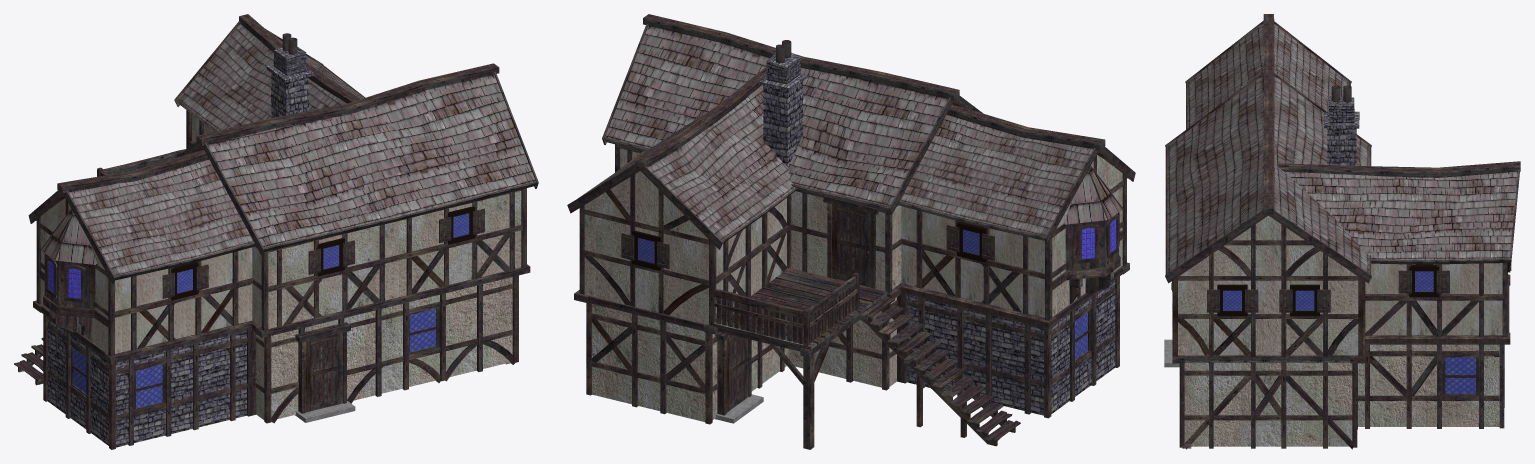
Rendered from House2_1Upload.obj.
3 views of the same model, side by side, from view 1: azimuth 30°, elevation 25°; view 2: azimuth 150°, elevation 25°; view 3: azimuth 270°, elevation 25° (orthographic). The views are drawn at different scales.
Parts seen in each view (by area): view 1: Roof_Cube.382, WoodenBeams_Cube.380, HouseLevel1_Cube.014, HouseLevel2_Cube.015, RoofFrame_Cube.471, WindowFrames_Cube.018, Door1_Cube.033, Chimney_Cube.418, Door1Frame_Cube.037, Windows1Level1_Cube.161, Windows2Level1_Cube.009, WoodenStair_Cube.461 (+2 smaller); view 2: Roof_Cube.382, WoodenBeams_Cube.380, HouseLevel2_Cube.015, HouseLevel1_Cube.014, RoofFrame_Cube.471, BackBalcony_Cube.134, WoodenStair_Cube.461, Chimney_Cube.418, WindowFrames_Cube.018, Door3_Cube.422, Door2_Cube.044, Door3Frame_Cube.421 (+2 smaller); view 3: Roof_Cube.382, WoodenBeams_Cube.380, HouseLevel2_Cube.015, HouseLevel1_Cube.014, RoofFrame_Cube.471, WindowFrames_Cube.018, Chimney_Cube.418, Windows4Level1_Cube.019, Windows10Level2_Cube.465, Windows9Level2_Cube.049, Windows11Level2_Cube.040.
Boxes of the visible parts, x1,y1,x2,y2 form: Roof_Cube.382: (41,23,535,275); WoodenBeams_Cube.380: (33,110,530,449); HouseLevel1_Cube.014: (47,277,512,447); HouseLevel2_Cube.015: (41,114,521,353); RoofFrame_Cube.471: (28,14,538,283); WindowFrames_Cube.018: (45,206,485,410); Door1_Cube.033: (305,333,342,412); Chimney_Cube.418: (266,47,313,117); Door1Frame_Cube.037: (295,322,350,413); Windows1Level1_Cube.161: (409,308,436,352); Windows2Level1_Cube.009: (136,364,162,408); WoodenStair_Cube.461: (14,337,43,385); Roof_Cube.382: (591,25,1122,240); WoodenBeams_Cube.380: (574,144,1129,424); HouseLevel2_Cube.015: (584,148,1122,324); HouseLevel1_Cube.014: (592,280,1115,421); RoofFrame_Cube.471: (567,14,1135,249); BackBalcony_Cube.134: (712,267,887,449); WoodenStair_Cube.461: (860,296,1020,446); Chimney_Cube.418: (759,53,807,167); WindowFrames_Cube.018: (621,212,1119,361); Door3_Cube.422: (831,204,870,287); Door2_Cube.044: (726,335,748,412); Door3Frame_Cube.421: (823,196,878,288); Roof_Cube.382: (1167,23,1517,273); WoodenBeams_Cube.380: (1172,224,1510,449); HouseLevel2_Cube.015: (1178,215,1502,355); HouseLevel1_Cube.014: (1184,344,1499,446); RoofFrame_Cube.471: (1165,14,1520,283); WindowFrames_Cube.018: (1171,263,1511,395); Chimney_Cube.418: (1323,96,1359,165); Windows4Level1_Cube.019: (1445,357,1475,393); Windows10Level2_Cube.465: (1295,290,1314,310); Windows9Level2_Cube.049: (1415,271,1433,291); Windows11Level2_Cube.040: (1223,290,1241,310).
Size of the model in its own units: 13.53 by 8.87 by 9.53.
